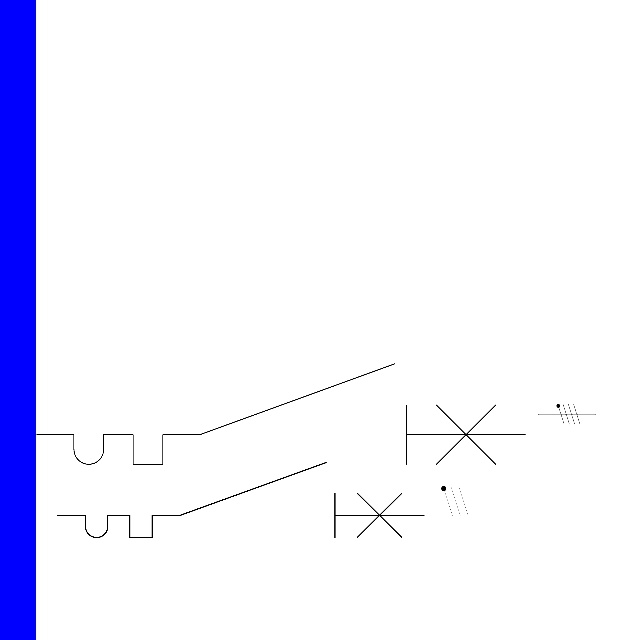interruptor_termomagnetico: (24, 351, 538, 477), (48, 453, 433, 547)
